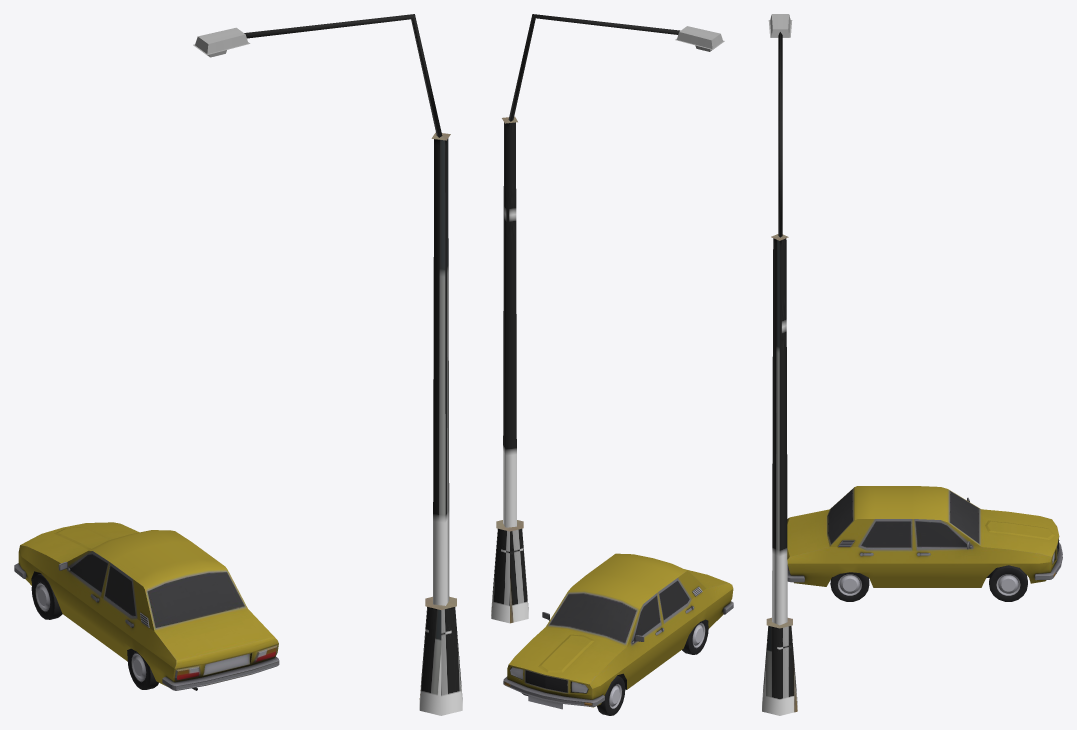
The model's file is proc3_04.gltf.
The picture shows the model from 3 angles, left to right: view 1: azimuth 30°, elevation 25°; view 2: azimuth 150°, elevation 25°; view 3: azimuth 270°, elevation 25°; orthographic projection. The views are drawn at different scales.
Parts seen in each view (by area): view 1: proc3_04; view 2: proc3_04; view 3: proc3_04.
Part boxes in pixels (<box>): proc3_04: <box>14,14,462,715</box>; proc3_04: <box>491,14,733,715</box>; proc3_04: <box>762,14,1062,715</box>.
Bounding box in the file's own units: 4.23 × 10.08 × 4.6.
Materials: 3 (3 with a texture image).
